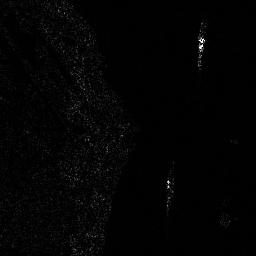ship: (196, 36, 206, 68)
